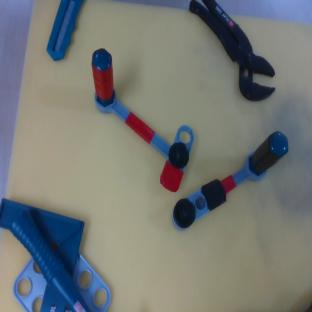non_pass: (163, 128, 297, 233)
pass: (59, 45, 214, 195)
